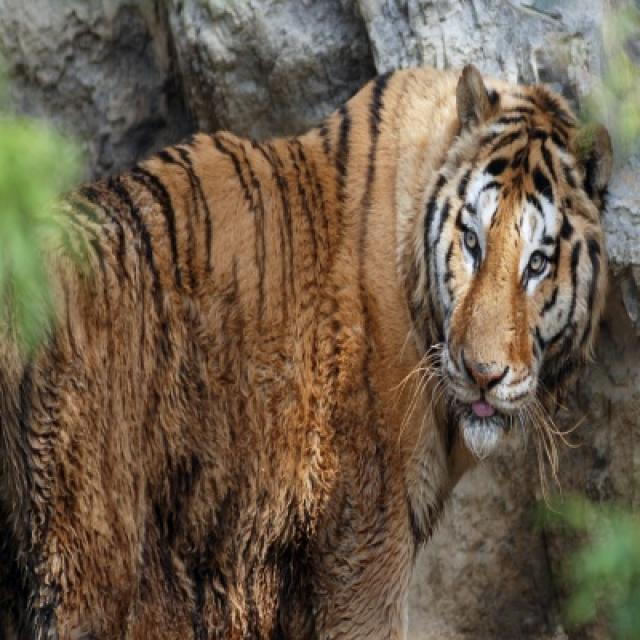Tiger: (12, 70, 624, 631)
